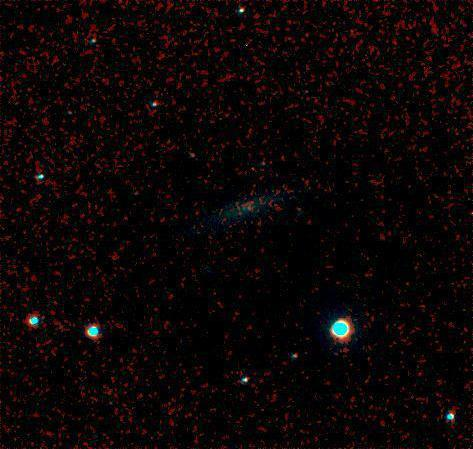star: (337, 15, 367, 45)
